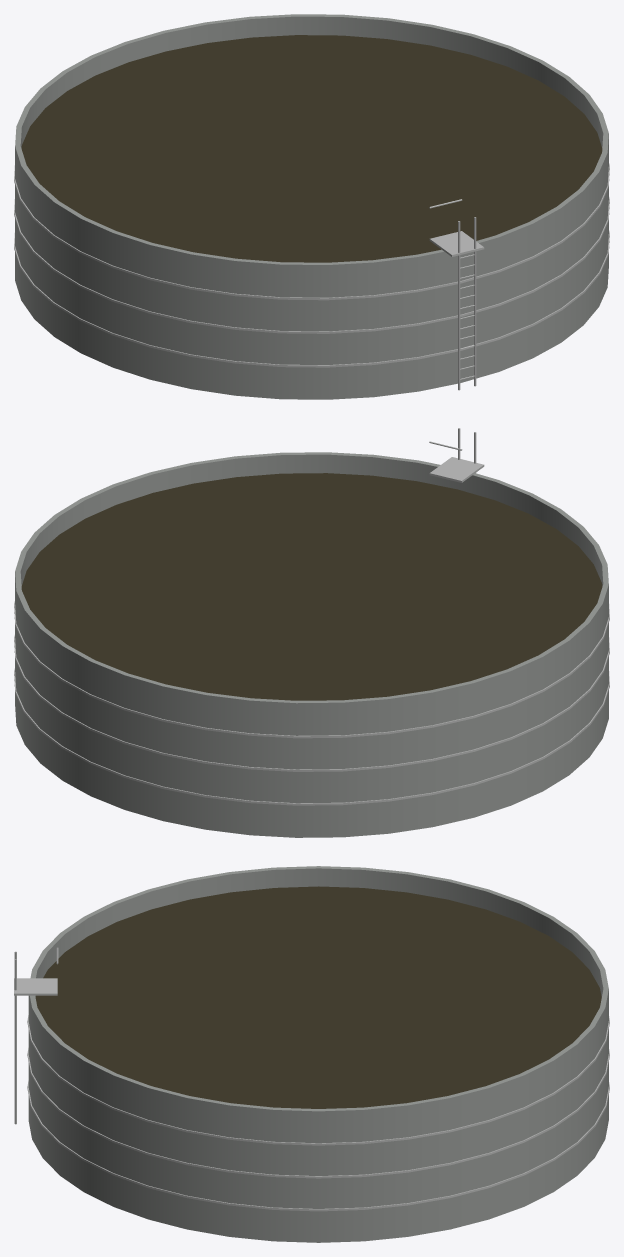
Rendered from farm.store.slurry_tank_steel.glb.
3 views of the same model, one above another, from view 1: azimuth 30°, elevation 25°; view 2: azimuth 150°, elevation 25°; view 3: azimuth 270°, elevation 25° (orthographic). The views are drawn at different scales.
Parts seen in each view (by area): view 1: main__paint_432, main__galv_999, main__galv_bbb; view 2: main__paint_432, main__galv_999, main__galv_bbb; view 3: main__paint_432, main__galv_999, main__galv_bbb.
Part boxes in pixels (x1,y1,x2,y2): main__paint_432: (21, 35, 602, 262); main__galv_999: (15, 14, 608, 399); main__galv_bbb: (14, 163, 609, 390); main__paint_432: (21, 473, 602, 700); main__galv_999: (15, 452, 608, 837); main__galv_bbb: (14, 428, 609, 805); main__paint_432: (35, 886, 601, 1108); main__galv_999: (28, 866, 608, 1242); main__galv_bbb: (14, 947, 609, 1211).
Size of the model in its own units: 16.06 by 5.03 by 16.43.
